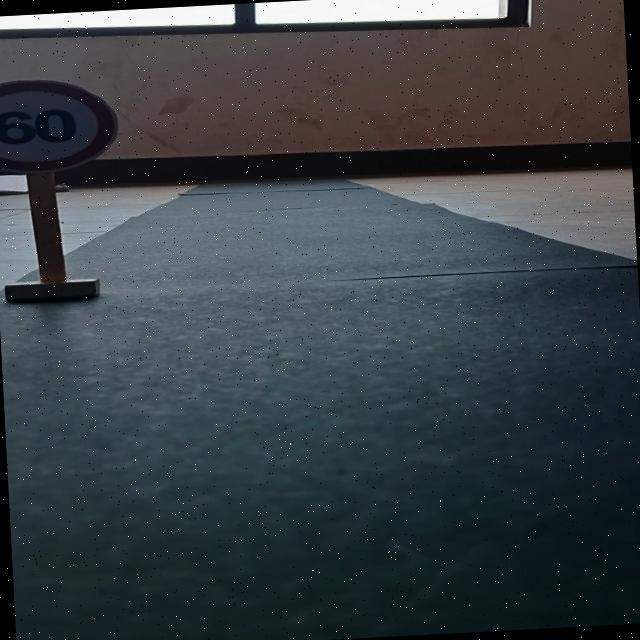Speed60: (0, 75, 125, 171)
